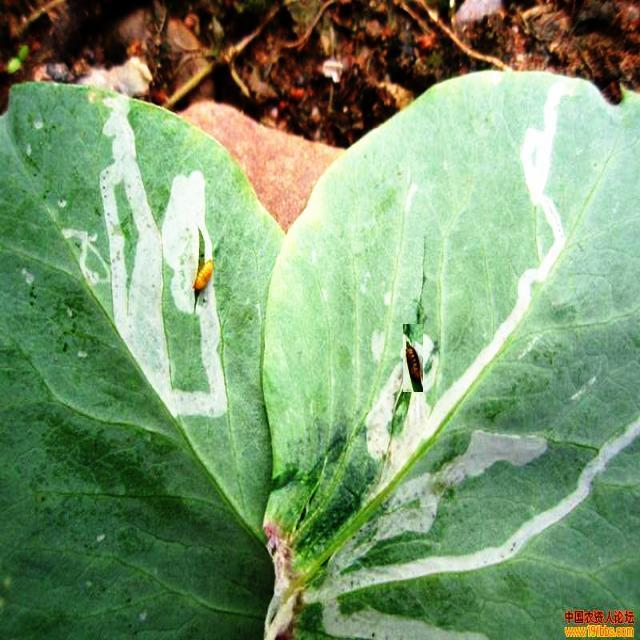whorl-maggot: (189, 251, 220, 308), (403, 324, 423, 392)
